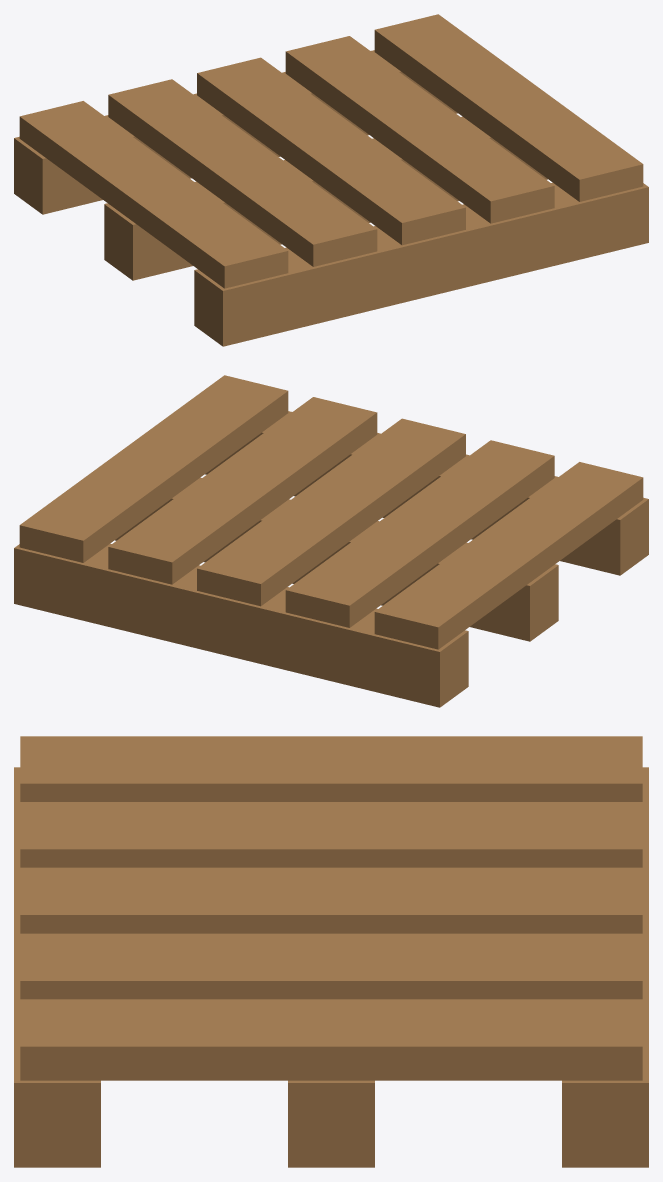
Rendered from pallet.glb.
3 views of the same model, one above another, from view 1: azimuth 30°, elevation 25°; view 2: azimuth 150°, elevation 25°; view 3: azimuth 270°, elevation 25° (orthographic). The views are drawn at different scales.
Visible parts, largest first — view 1: harbor_pallet; view 2: harbor_pallet; view 3: harbor_pallet.
Part boxes in pixels (x1=…): harbor_pallet: x1=14, y1=14, x2=648, y2=346; harbor_pallet: x1=14, y1=375, x2=648, y2=707; harbor_pallet: x1=14, y1=736, x2=648, y2=1167.
Size of the model in its own units: 1.2 by 0.21 by 1.02.
